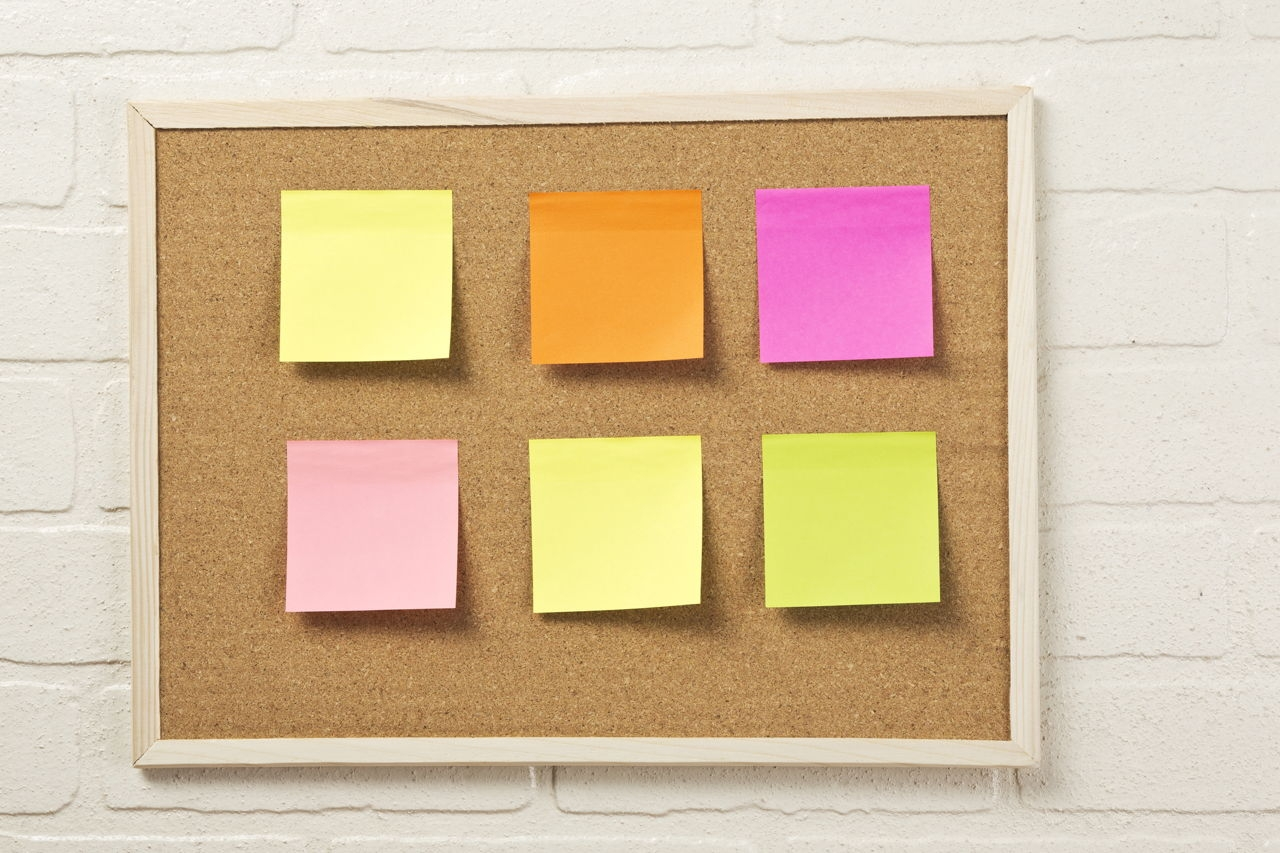stickynote: (752, 182, 939, 365), (523, 187, 711, 368), (759, 429, 947, 609), (526, 433, 708, 614), (281, 434, 464, 614), (276, 185, 461, 362)
